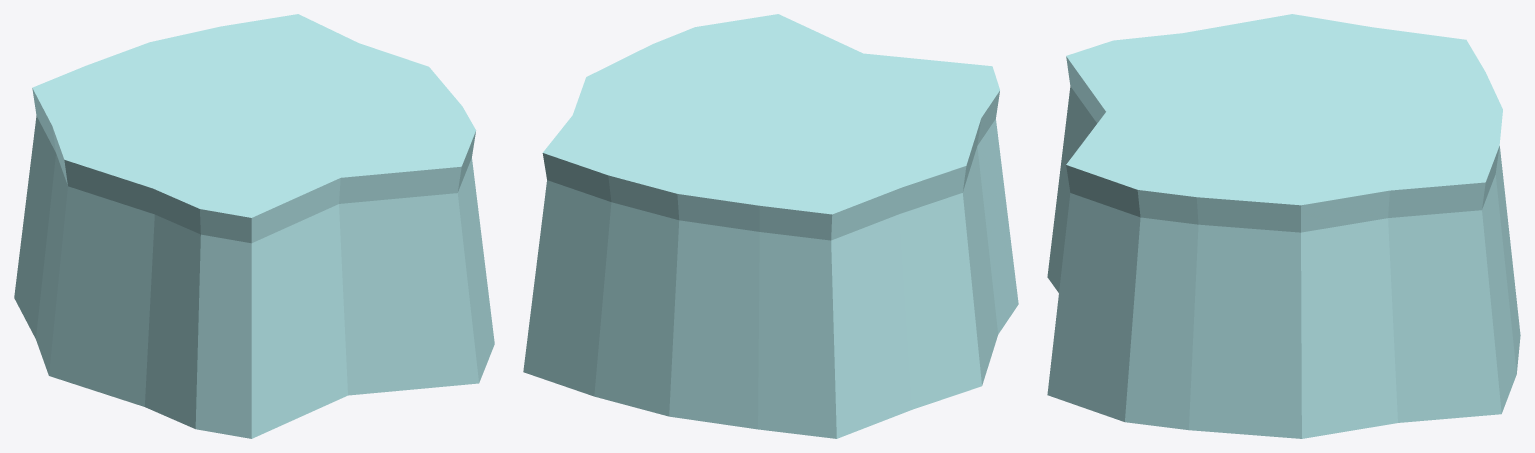
File: snowchair.fbx
The picture shows the model from 3 angles, left to right: view 1: azimuth 30°, elevation 25°; view 2: azimuth 150°, elevation 25°; view 3: azimuth 270°, elevation 25°; orthographic projection. The views are drawn at different scales.
Visible parts, largest first — view 1: snowchair; view 2: snowchair; view 3: snowchair.
Part boxes in pixels (bbox=[...]): snowchair: bbox=[14, 14, 494, 438]; snowchair: bbox=[523, 14, 1018, 438]; snowchair: bbox=[1047, 14, 1520, 438].
Bounding box in the file's own units: 172 × 87.63 × 166.
